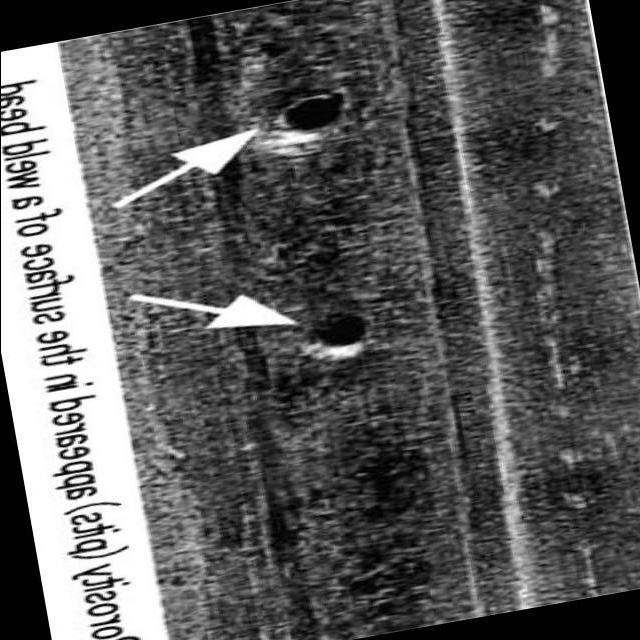defect: (307, 301, 399, 368), (263, 87, 357, 134)
